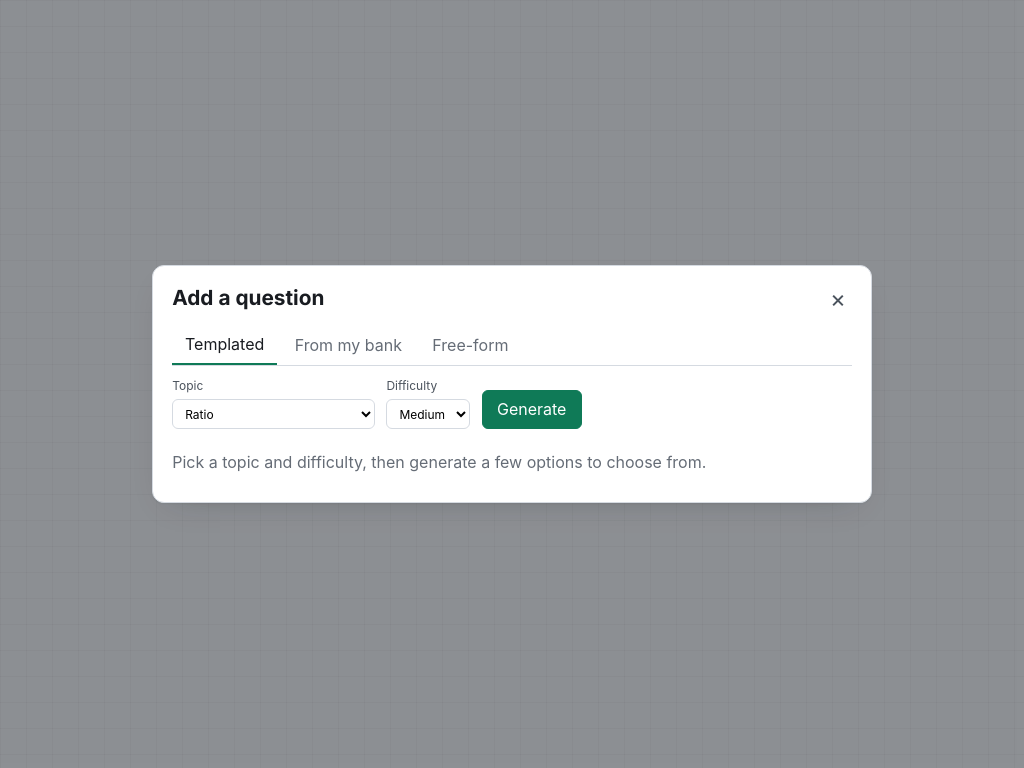
Scenario: AddQuestion picker › shows an API error and keeps the dialog open
Click the button "Generate": (532, 409) 482,390 -> 582,429
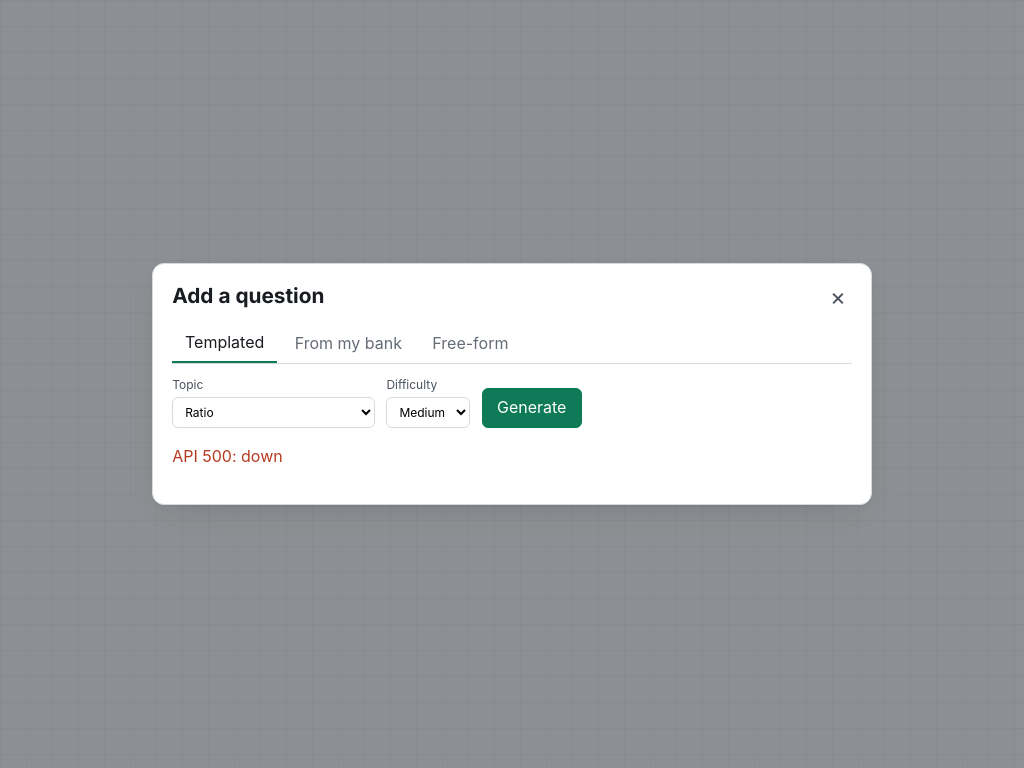
Expected: the message reads "API 500: down", 172,446 -> 283,466
